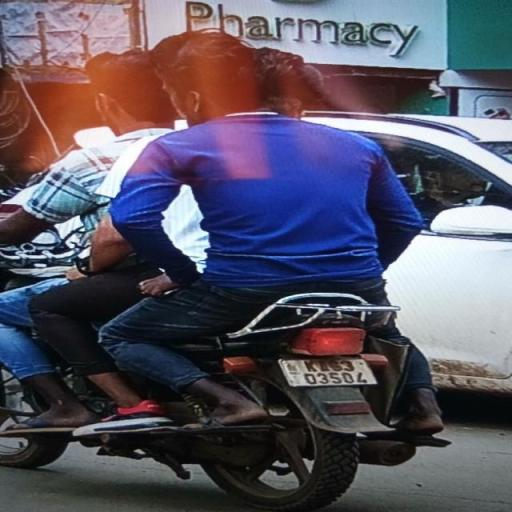tripple riding: (2, 30, 428, 302)
